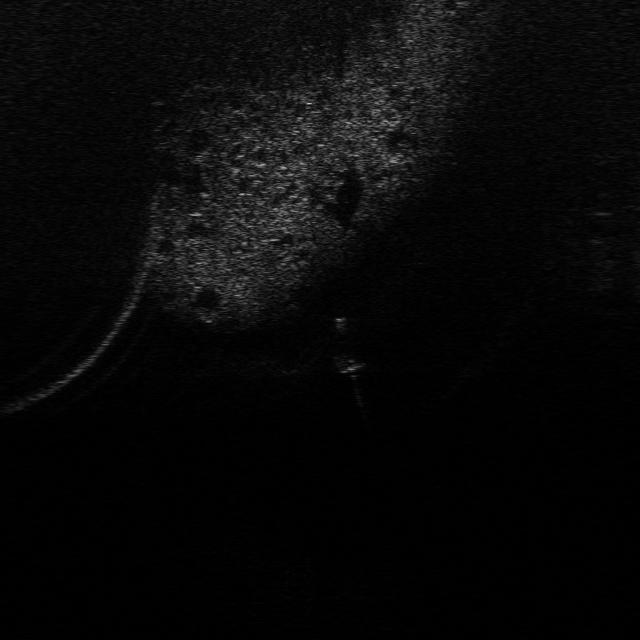cube: (327, 353, 369, 377)
cylinder: (327, 312, 352, 340)
